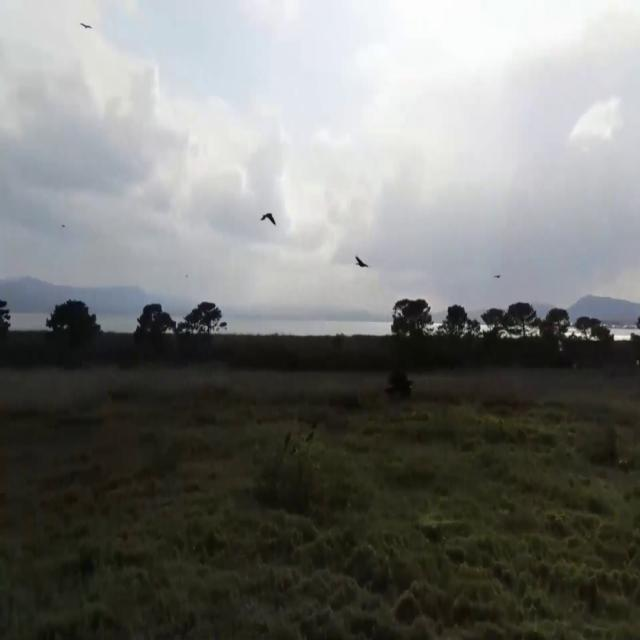bird: (260, 202, 276, 238), (354, 244, 369, 280), (78, 12, 92, 41), (493, 265, 501, 287)
